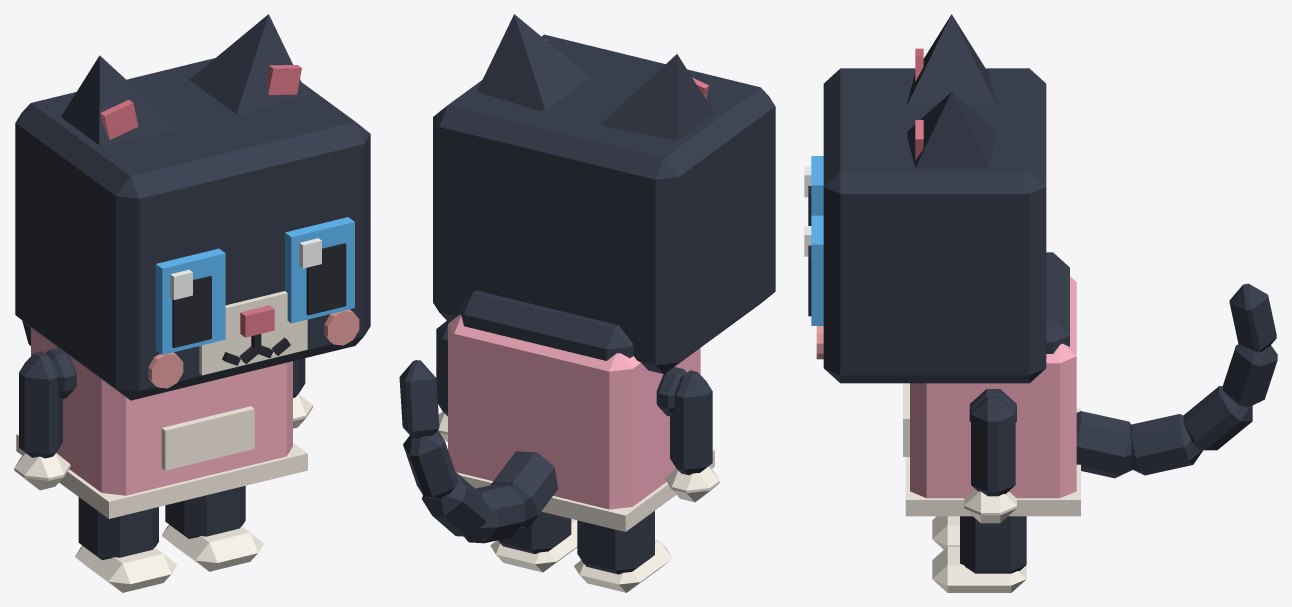
The model's file is CleanACat_NPC_Helper2.fbx.
The picture shows the model from 3 angles, left to right: view 1: azimuth 30°, elevation 25°; view 2: azimuth 150°, elevation 25°; view 3: azimuth 270°, elevation 25°; orthographic projection. The views are drawn at different scales.
Visible parts, largest first — view 1: CleanACat_NPC_Helper2_Head, CleanACat_NPC_Helper2_Body, CleanACat_NPC_Helper2_Eye2, CleanACat_NPC_Helper2_Eye1, CleanACat_NPC_Helper2_EarL, CleanACat_NPC_Helper2_LegB2, CleanACat_NPC_Helper2_LegB1, CleanACat_NPC_Helper2_EarR, CleanACat_NPC_Helper2_LegF2, CleanACat_NPC_Helper2_LegF1; view 2: CleanACat_NPC_Helper2_Head, CleanACat_NPC_Helper2_Body, CleanACat_NPC_Helper2_Tail, CleanACat_NPC_Helper2_EarL, CleanACat_NPC_Helper2_EarR, CleanACat_NPC_Helper2_LegB2, CleanACat_NPC_Helper2_LegF2, CleanACat_NPC_Helper2_LegB1, CleanACat_NPC_Helper2_LegF1; view 3: CleanACat_NPC_Helper2_Head, CleanACat_NPC_Helper2_Body, CleanACat_NPC_Helper2_Tail, CleanACat_NPC_Helper2_LegB1, CleanACat_NPC_Helper2_LegF1, CleanACat_NPC_Helper2_EarR, CleanACat_NPC_Helper2_EarL, CleanACat_NPC_Helper2_Eye1, CleanACat_NPC_Helper2_Eye2, CleanACat_NPC_Helper2_LegB2.
Boxes of the visible parts, bbox=[...] form: CleanACat_NPC_Helper2_Head: bbox=[15, 58, 370, 400]; CleanACat_NPC_Helper2_Body: bbox=[16, 328, 307, 518]; CleanACat_NPC_Helper2_Eye2: bbox=[155, 248, 225, 354]; CleanACat_NPC_Helper2_Eye1: bbox=[285, 217, 354, 323]; CleanACat_NPC_Helper2_EarL: bbox=[189, 14, 307, 114]; CleanACat_NPC_Helper2_LegB2: bbox=[75, 497, 176, 592]; CleanACat_NPC_Helper2_LegB1: bbox=[161, 486, 263, 571]; CleanACat_NPC_Helper2_EarR: bbox=[61, 55, 178, 145]; CleanACat_NPC_Helper2_LegF2: bbox=[14, 351, 70, 490]; CleanACat_NPC_Helper2_LegF1: bbox=[293, 358, 312, 428]; CleanACat_NPC_Helper2_Head: bbox=[433, 34, 775, 373]; CleanACat_NPC_Helper2_Body: bbox=[448, 290, 714, 531]; CleanACat_NPC_Helper2_Tail: bbox=[399, 360, 558, 543]; CleanACat_NPC_Helper2_EarL: bbox=[477, 14, 590, 110]; CleanACat_NPC_Helper2_EarR: bbox=[601, 54, 714, 140]; CleanACat_NPC_Helper2_LegB2: bbox=[574, 511, 672, 592]; CleanACat_NPC_Helper2_LegF2: bbox=[665, 370, 719, 502]; CleanACat_NPC_Helper2_LegB1: bbox=[490, 511, 577, 572]; CleanACat_NPC_Helper2_LegF1: bbox=[436, 321, 449, 441]; CleanACat_NPC_Helper2_Head: bbox=[816, 68, 1046, 383]; CleanACat_NPC_Helper2_Body: bbox=[903, 252, 1080, 516]; CleanACat_NPC_Helper2_Tail: bbox=[1076, 283, 1277, 478]; CleanACat_NPC_Helper2_LegB1: bbox=[932, 516, 1026, 592]; CleanACat_NPC_Helper2_LegF1: bbox=[964, 396, 1016, 523]; CleanACat_NPC_Helper2_EarR: bbox=[907, 14, 995, 105]; CleanACat_NPC_Helper2_EarL: bbox=[907, 92, 995, 167]; CleanACat_NPC_Helper2_Eye1: bbox=[804, 215, 823, 325]; CleanACat_NPC_Helper2_Eye2: bbox=[804, 156, 823, 225]; CleanACat_NPC_Helper2_LegB2: bbox=[932, 516, 959, 549].
Bounding box in the file's own units: 1.07 × 1.93 × 1.62.
Materials: 1 (1 with a texture image).
